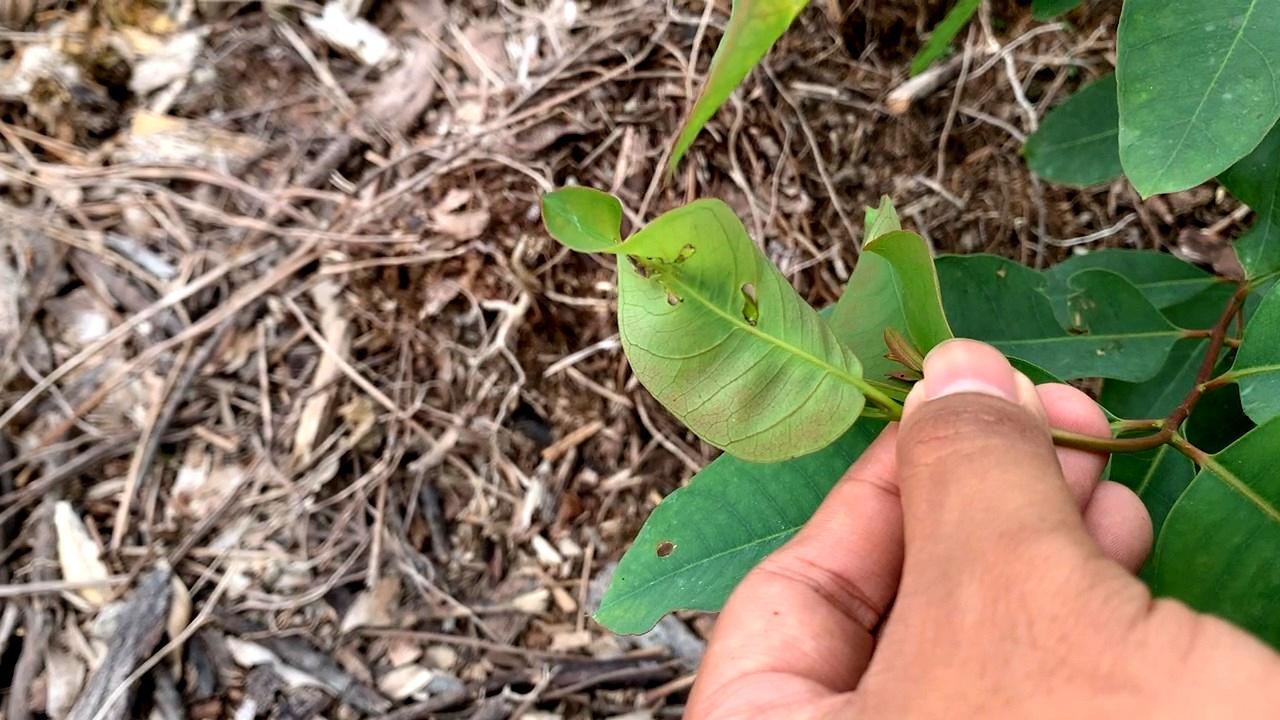Leaf Roller - Leaf: (532, 186, 858, 463)
